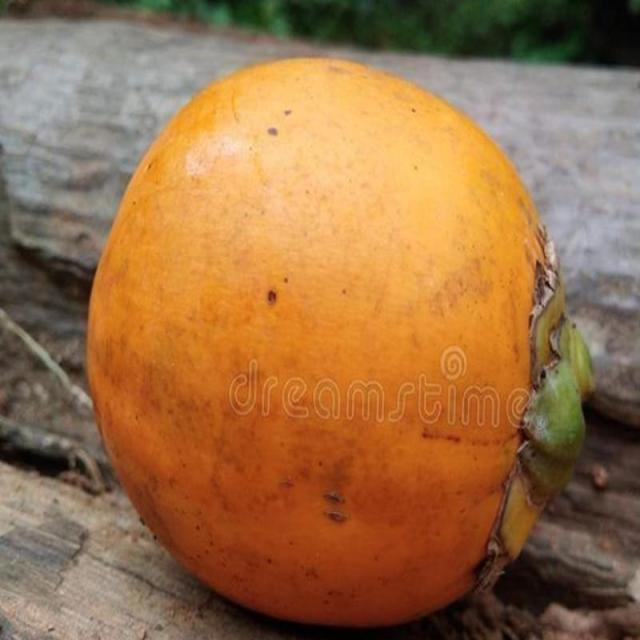good: (85, 58, 594, 633)
